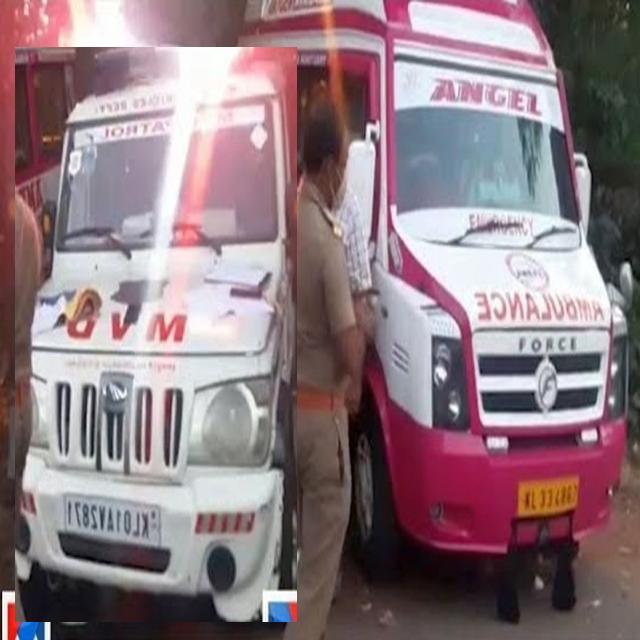car: (16, 48, 297, 622)
emergency: (238, 0, 629, 619)
